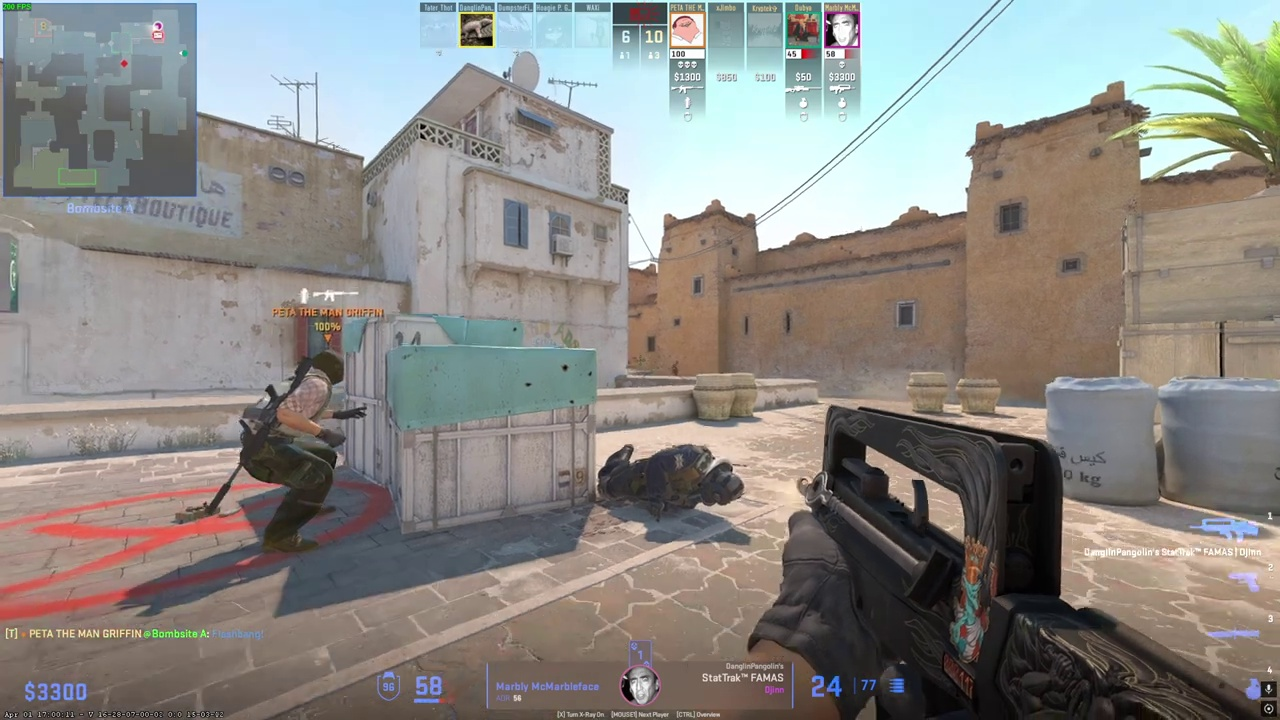Terrorist: (240, 349, 351, 555)
